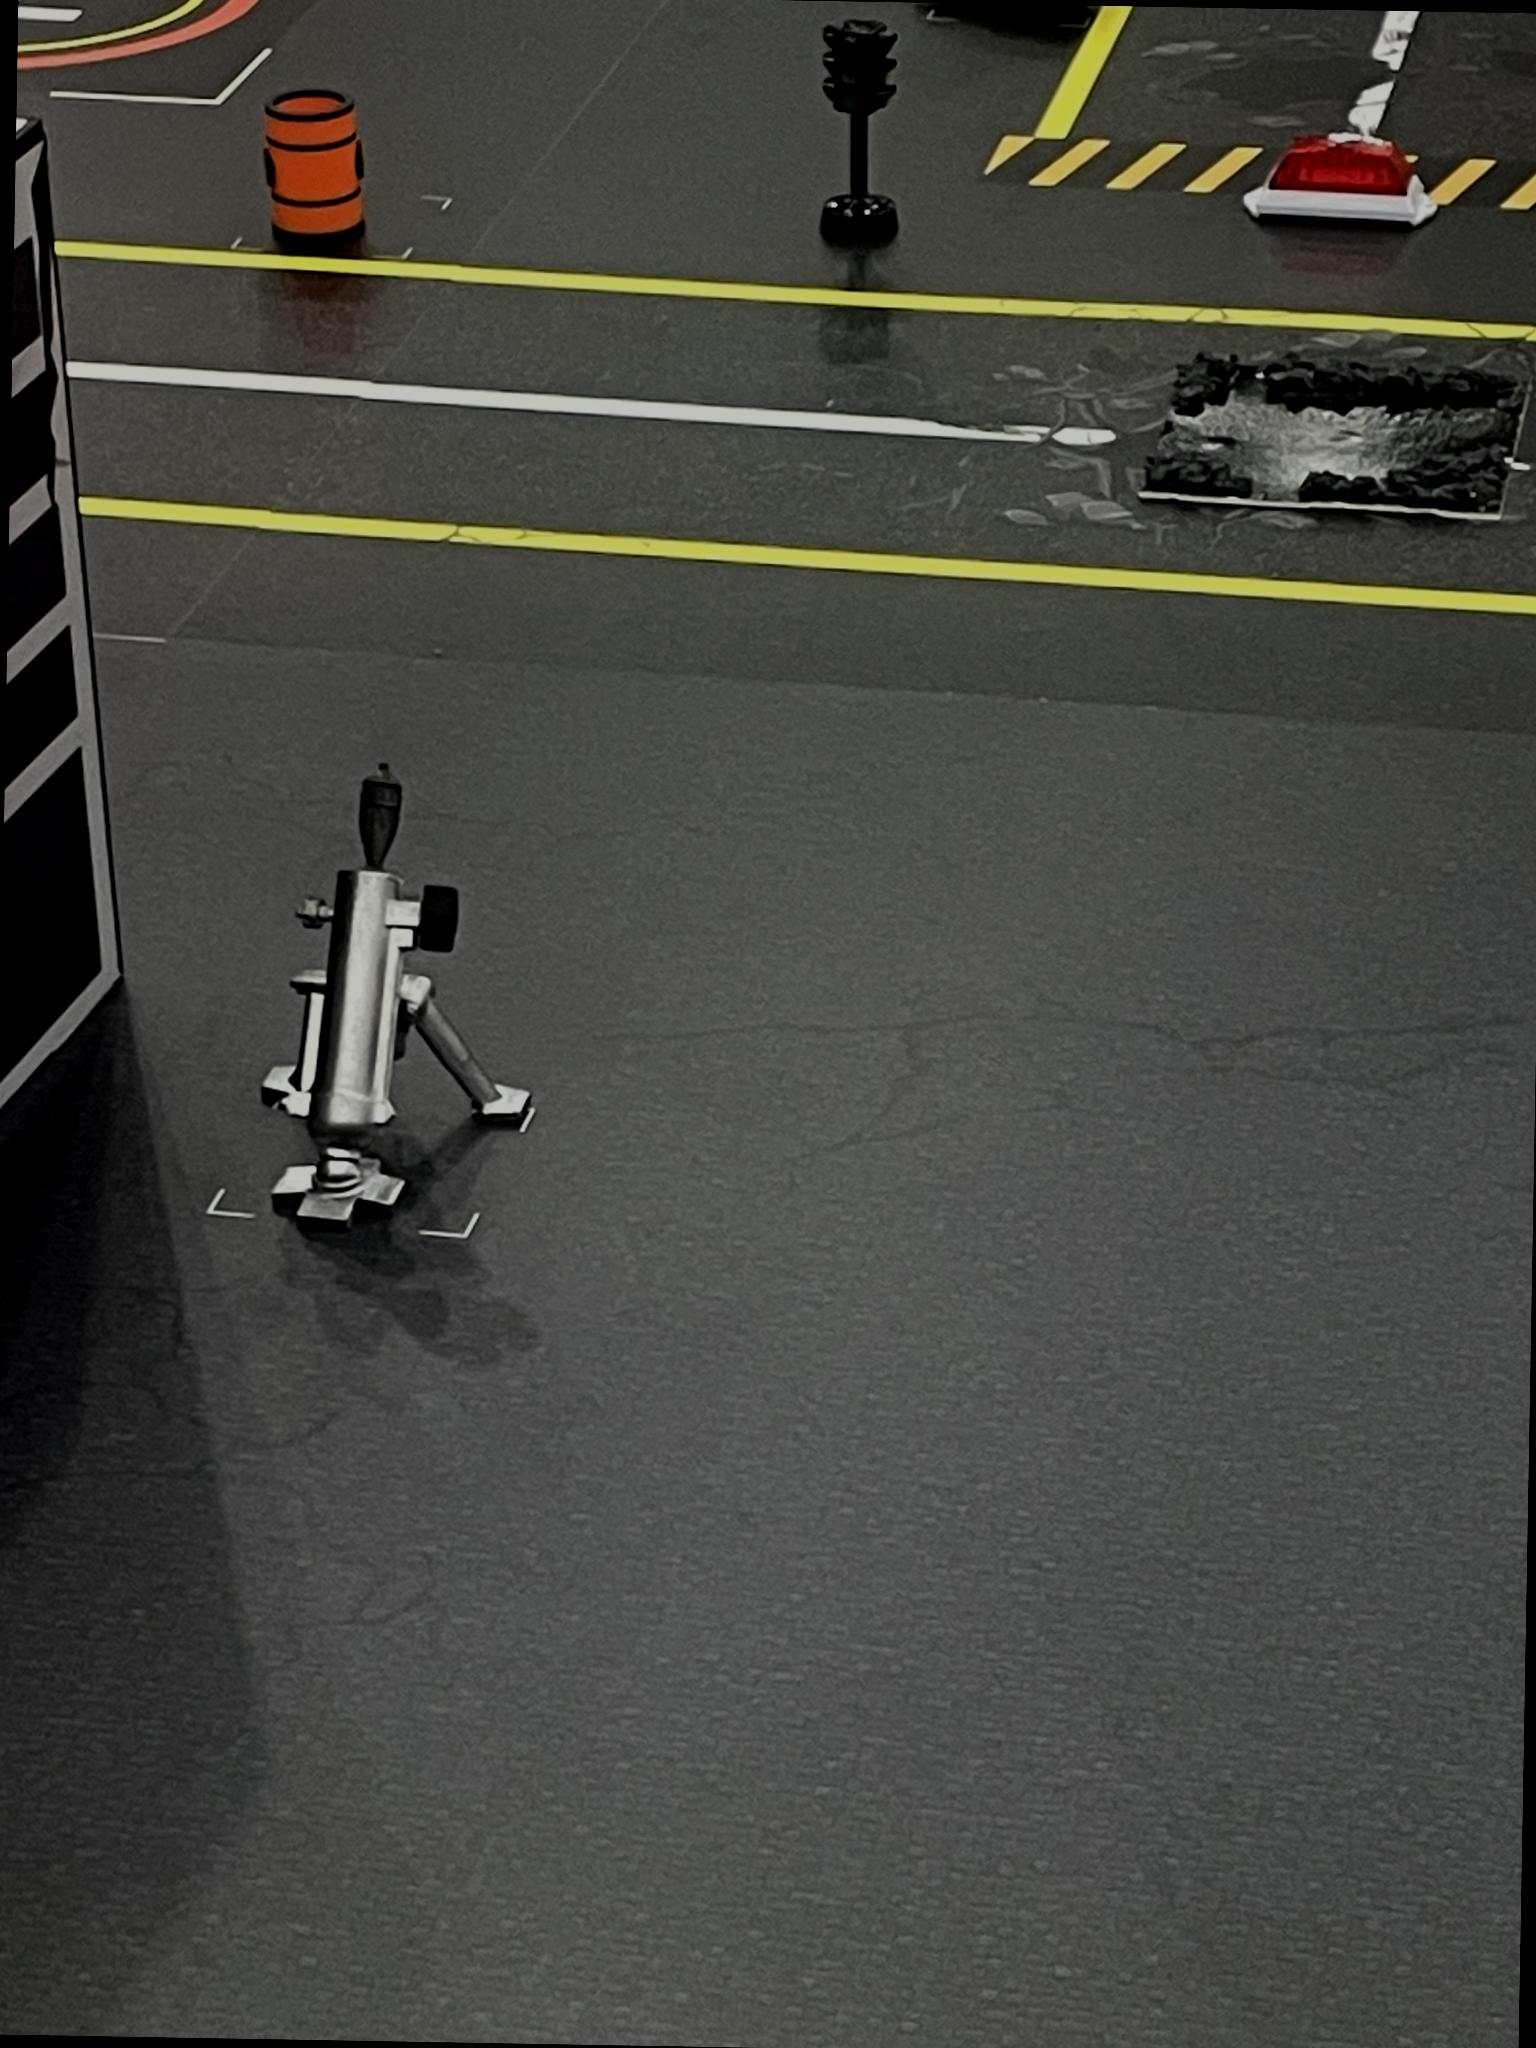Hazmat: (258, 95, 366, 247)
Mortar: (252, 755, 541, 1264)
